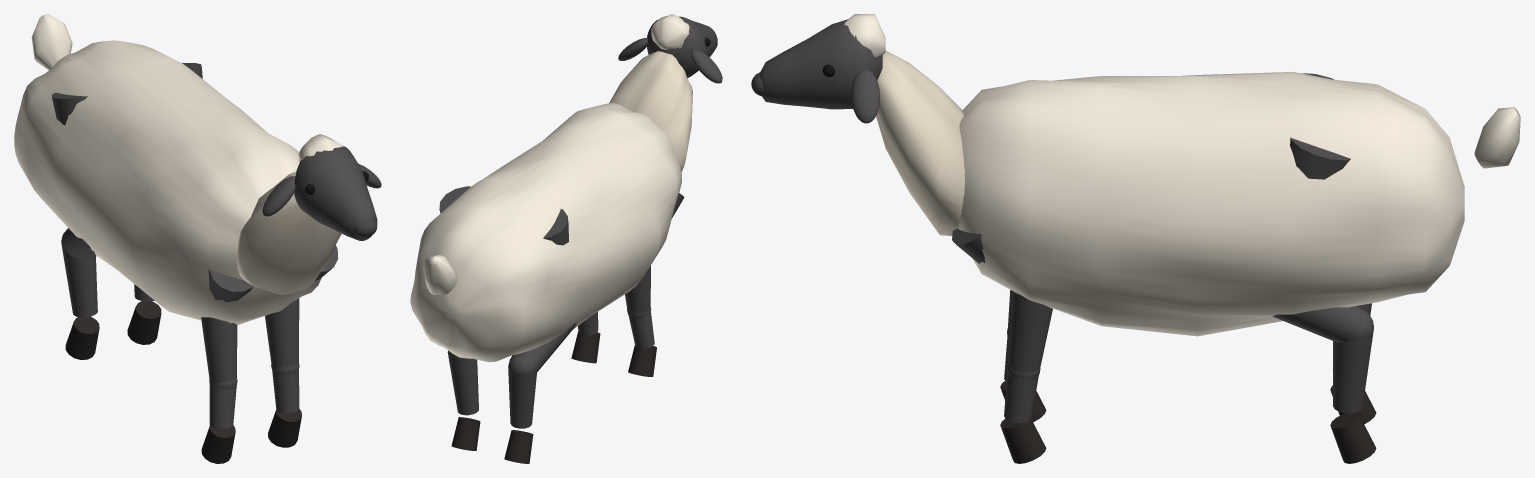
The model's file is module-realistic-sheep.glb.
The picture shows the model from 3 angles, left to right: view 1: azimuth 30°, elevation 25°; view 2: azimuth 150°, elevation 25°; view 3: azimuth 270°, elevation 25°; orthographic projection. The views are drawn at different scales.
Parts seen in each view (by area): view 1: WoolBody, WoolNeck, HeadShell, LegFR_Mid, LegFL_Mid, LegHR_Low, TailTuft, Hoof_2, Hoof_3, LegFR_Low, Hoof_1, LegFL_Low (+6 smaller); view 2: WoolBody, WoolNeck, HeadShell, LegHL_Low, LegHR_Low, TailTuft, Forelock, LegHR_Mid, Hoof_3, Hoof_2, LegFR_Mid, Hoof_1 (+8 smaller); view 3: WoolBody, WoolNeck, HeadShell, LegFL_Mid, LegHL_Low, TailTuft, LegHL_Mid, Hoof_2, LegHL_Upper, Hoof_0, LegFL_Low, Ear_L (+1 smaller).
Boxes of the visible parts, x1,y1,x2,y2 form: WoolBody: (14, 40, 321, 324); WoolNeck: (236, 171, 341, 295); HeadShell: (294, 146, 377, 240); LegFR_Mid: (201, 317, 237, 383); LegFL_Mid: (265, 298, 299, 368); LegHR_Low: (61, 245, 97, 317); TailTuft: (31, 14, 72, 69); Hoof_2: (127, 301, 161, 344); Hoof_3: (65, 316, 99, 359); LegFR_Low: (209, 384, 236, 428); Hoof_1: (201, 425, 235, 463); LegFL_Low: (272, 369, 299, 413); WoolBody: (410, 102, 681, 362); WoolNeck: (609, 51, 692, 171); HeadShell: (647, 16, 717, 78); LegHL_Low: (448, 354, 478, 415); LegHR_Low: (508, 368, 536, 428); TailTuft: (423, 254, 457, 295); Forelock: (651, 14, 689, 49); LegHR_Mid: (511, 323, 575, 372); Hoof_3: (504, 430, 533, 463); Hoof_2: (451, 417, 480, 450); LegFR_Mid: (625, 265, 650, 313); Hoof_1: (628, 345, 656, 376); WoolBody: (958, 71, 1464, 336); WoolNeck: (876, 50, 964, 236); HeadShell: (759, 19, 882, 109); LegFL_Mid: (1008, 291, 1052, 373); LegHL_Low: (1333, 332, 1372, 413); TailTuft: (1474, 107, 1520, 168); LegHL_Mid: (1272, 306, 1364, 342); Hoof_2: (1330, 412, 1376, 463); LegHL_Upper: (1290, 137, 1350, 179); Hoof_0: (1000, 418, 1046, 463); LegFL_Low: (1004, 372, 1038, 423); Ear_L: (851, 69, 879, 123).
Bounding box in the file's own units: 0.3978 × 0.785 × 1.28.
